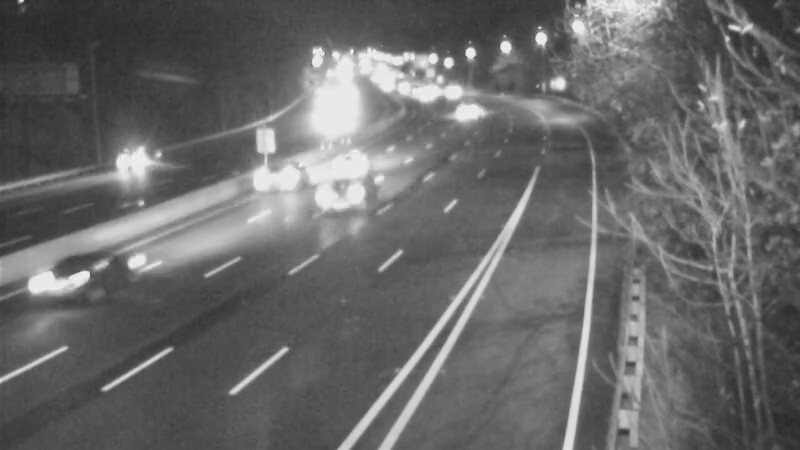vehicle: (316, 118, 396, 198), (316, 161, 396, 241), (238, 135, 318, 215), (14, 250, 94, 330), (89, 131, 169, 211), (437, 85, 487, 135)
